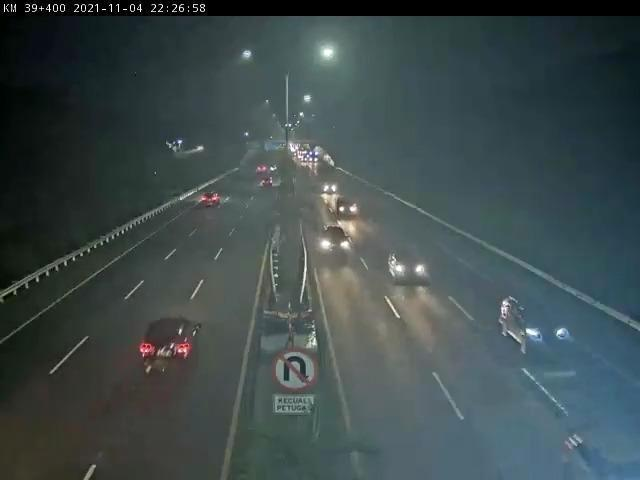car: (500, 294, 572, 357), (139, 320, 203, 374), (389, 251, 431, 284), (320, 227, 355, 259), (201, 191, 226, 211)
